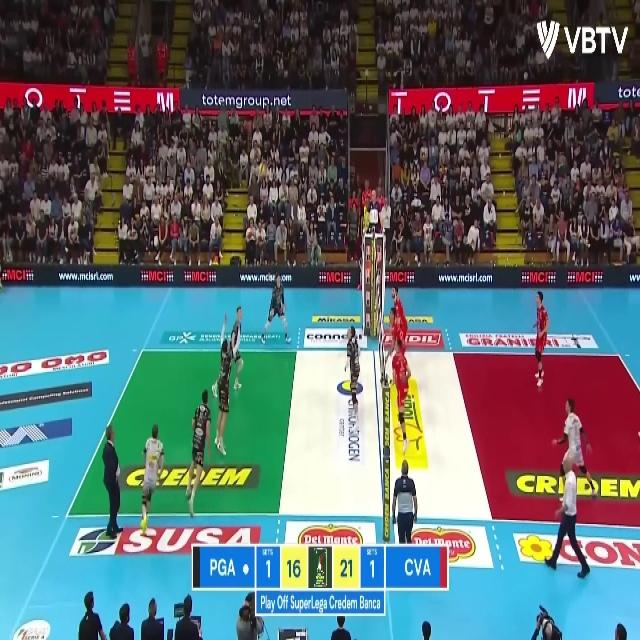volleyball court: (65, 350, 639, 526)
